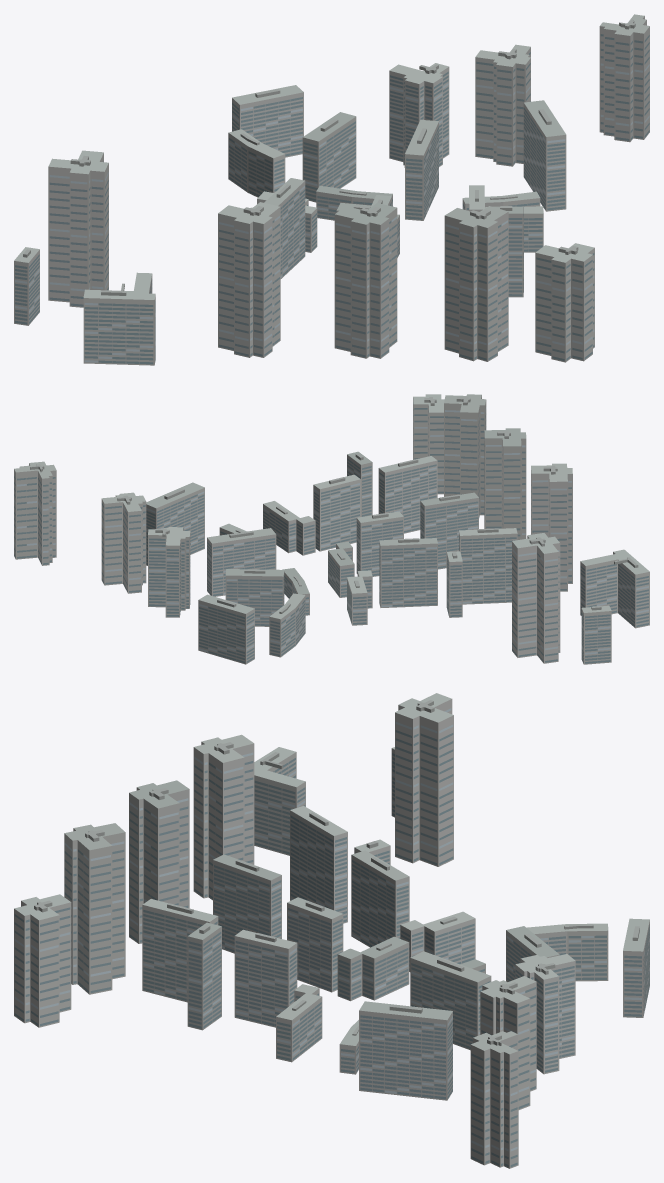
The model's file is apt-a12013003.glb.
3 views of the same model, one above another, from view 1: azimuth 30°, elevation 25°; view 2: azimuth 150°, elevation 25°; view 3: azimuth 270°, elevation 25° (orthographic). The views are drawn at different scales.
Visible parts, largest first — view 1: apt-a12013003; view 2: apt-a12013003; view 3: apt-a12013003.
Part boxes in pixels (x1,y1,x2,y2): apt-a12013003: [14, 14, 649, 365]; apt-a12013003: [14, 394, 649, 664]; apt-a12013003: [14, 693, 649, 1168].
Size of the model in its own units: 539 by 104 by 406.
